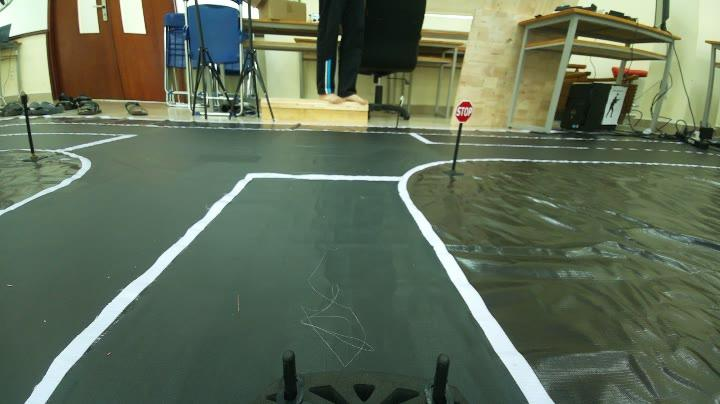stop: (448, 98, 479, 123)
